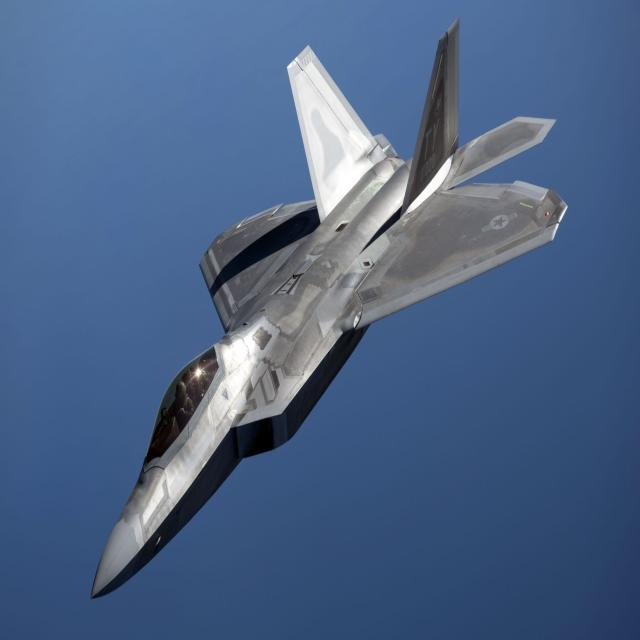F22: (37, 4, 589, 608)
